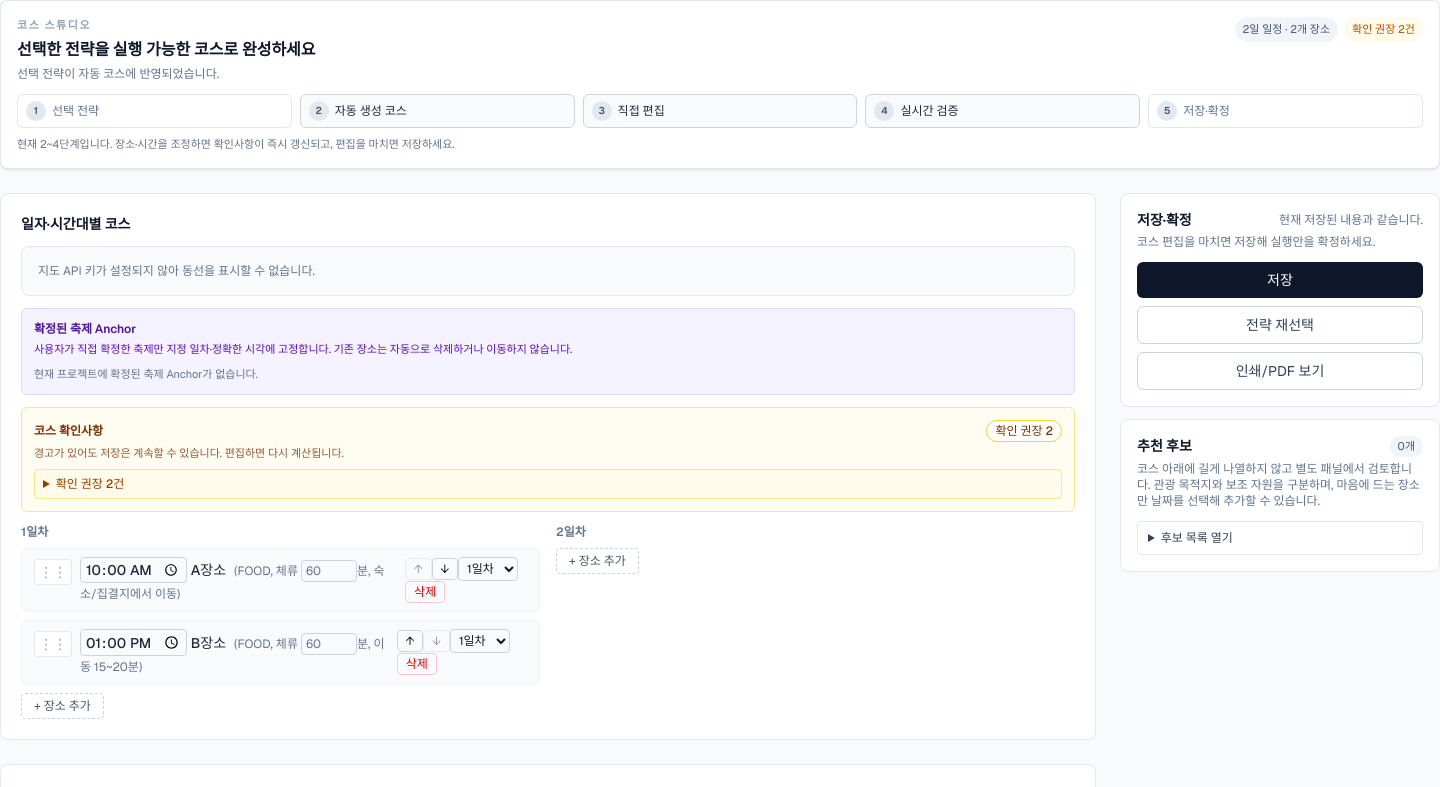
Test case: PlanEditor 코스 추가/삭제/이동 › 삭제 버튼을 누르면 목록에서 빠진다
What coordinates should you click on to do the following:
click the button with aria-label "A장소 삭제"
I would click on:
 (425, 592)
Its box is [405,581,445,603].
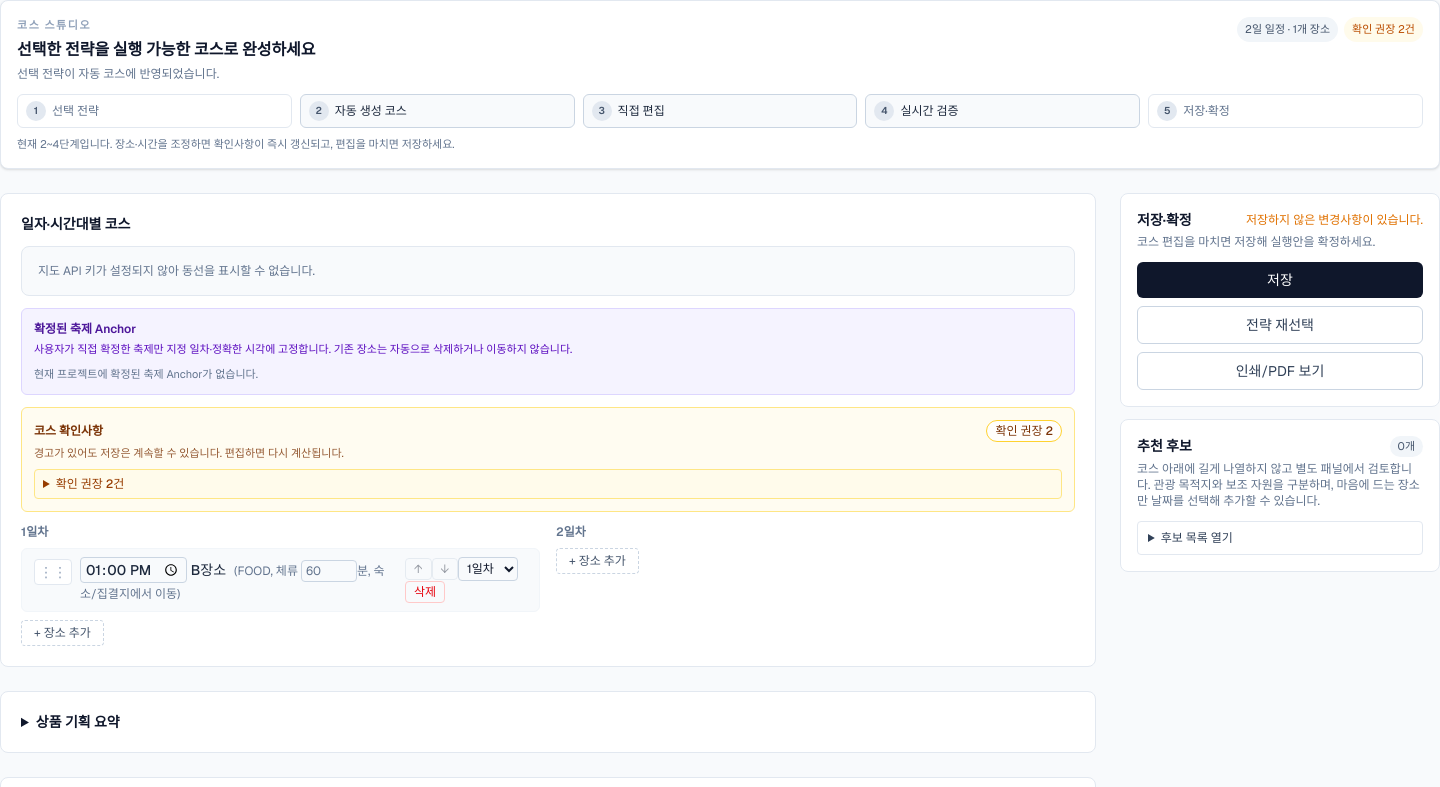
Expected: the text "B장소" is shown, [80,561,226,579]
Expected: the text "A장소" is gone
